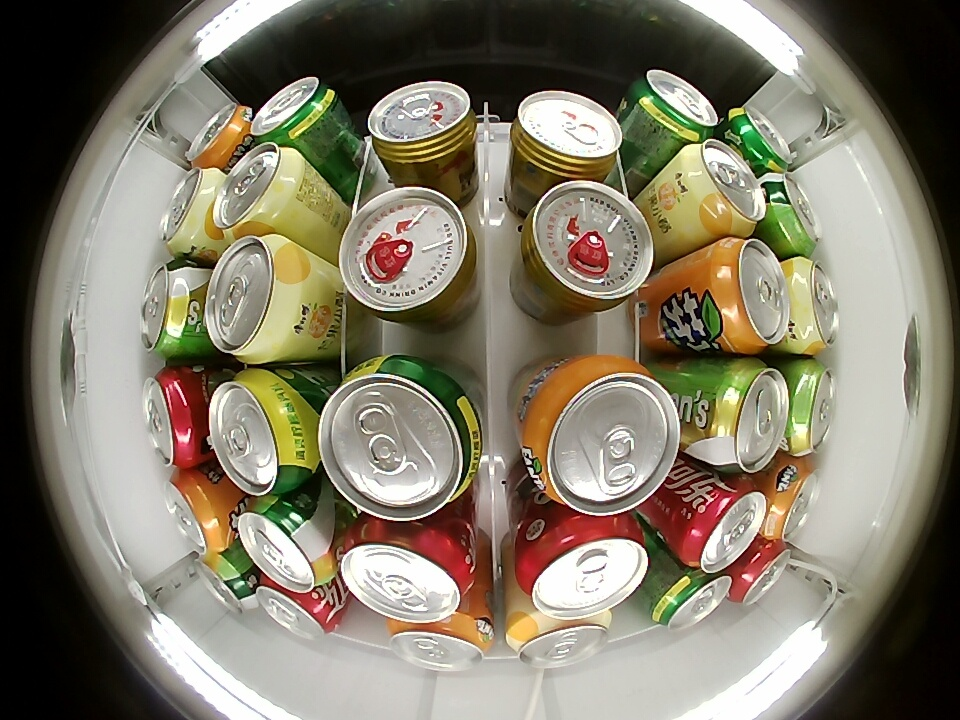fenda: (520, 355, 681, 516), (706, 238, 788, 355), (387, 614, 493, 672), (163, 469, 228, 554), (762, 460, 821, 542), (187, 103, 251, 169)
hongniu: (338, 185, 478, 323), (519, 180, 654, 312)
hongniu2: (510, 90, 622, 182), (367, 81, 476, 171)
kele: (514, 515, 650, 620), (337, 520, 475, 623), (678, 475, 766, 573), (142, 366, 206, 468), (257, 582, 340, 639), (729, 542, 792, 606)
mangguoxiaolao: (204, 232, 309, 365), (213, 142, 307, 245), (677, 139, 765, 236), (505, 609, 611, 668), (159, 167, 222, 257), (785, 257, 839, 354)
quchenshixiangcao: (236, 496, 334, 593), (707, 359, 788, 473), (141, 259, 198, 358), (763, 172, 821, 256), (785, 360, 836, 455), (194, 552, 258, 614)
xuebi2: (318, 355, 484, 522), (208, 368, 317, 495), (623, 70, 718, 146), (250, 77, 344, 149), (648, 566, 732, 630), (727, 105, 792, 174)
